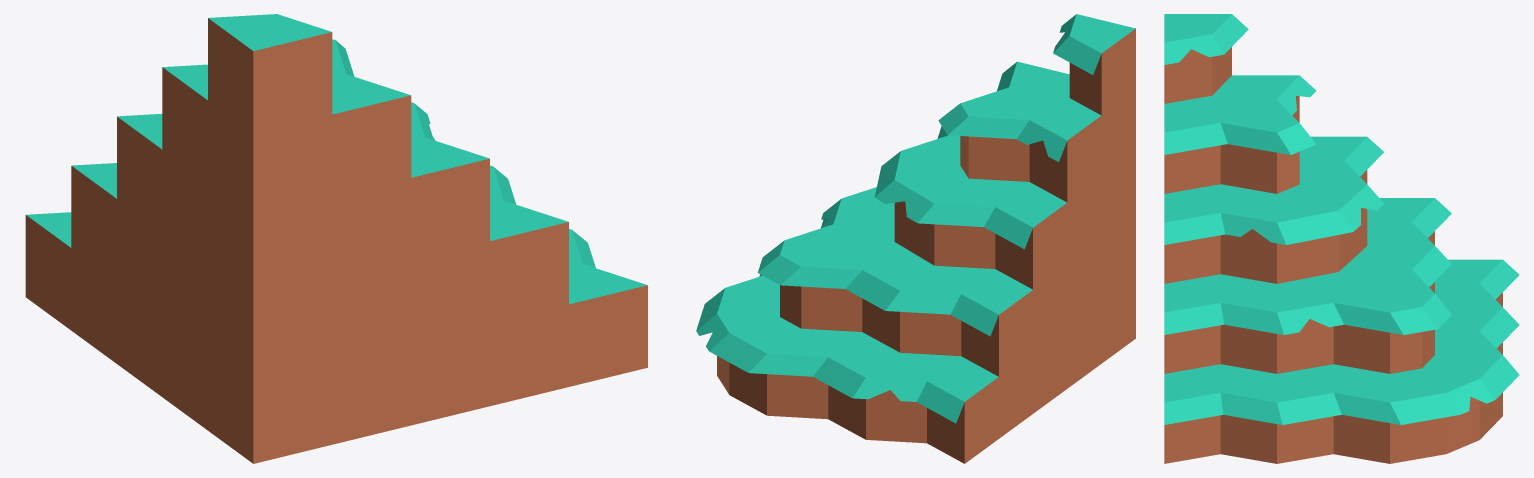
The model's file is cliff_stepsCorner_rock.glb.
3 views of the same model, side by side, from view 1: azimuth 30°, elevation 25°; view 2: azimuth 150°, elevation 25°; view 3: azimuth 270°, elevation 25° (orthographic). The views are drawn at different scales.
Visible parts, largest first — view 1: cliff_stepsCorner_rock; view 2: cliff_stepsCorner_rock; view 3: cliff_stepsCorner_rock.
Part boxes in pixels (bbox=[...]): cliff_stepsCorner_rock: bbox=[25, 14, 647, 463]; cliff_stepsCorner_rock: bbox=[696, 14, 1135, 463]; cliff_stepsCorner_rock: bbox=[1164, 14, 1519, 463].
Size of the model in its own units: 1.05 by 1 by 1.05.
